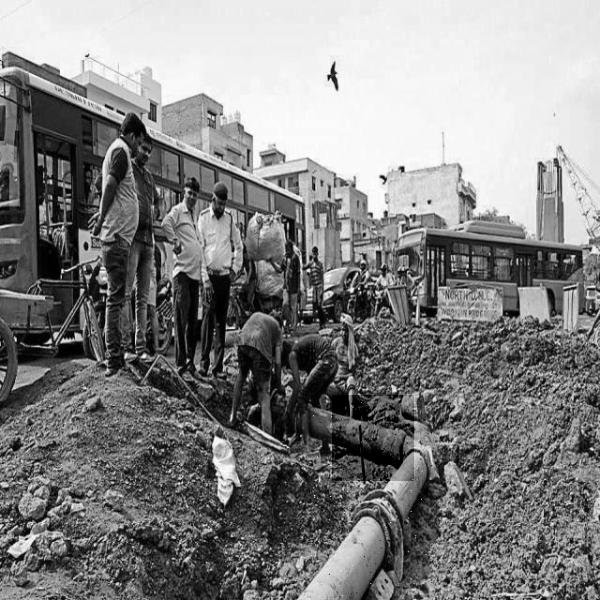no leak: (332, 395, 414, 481)
